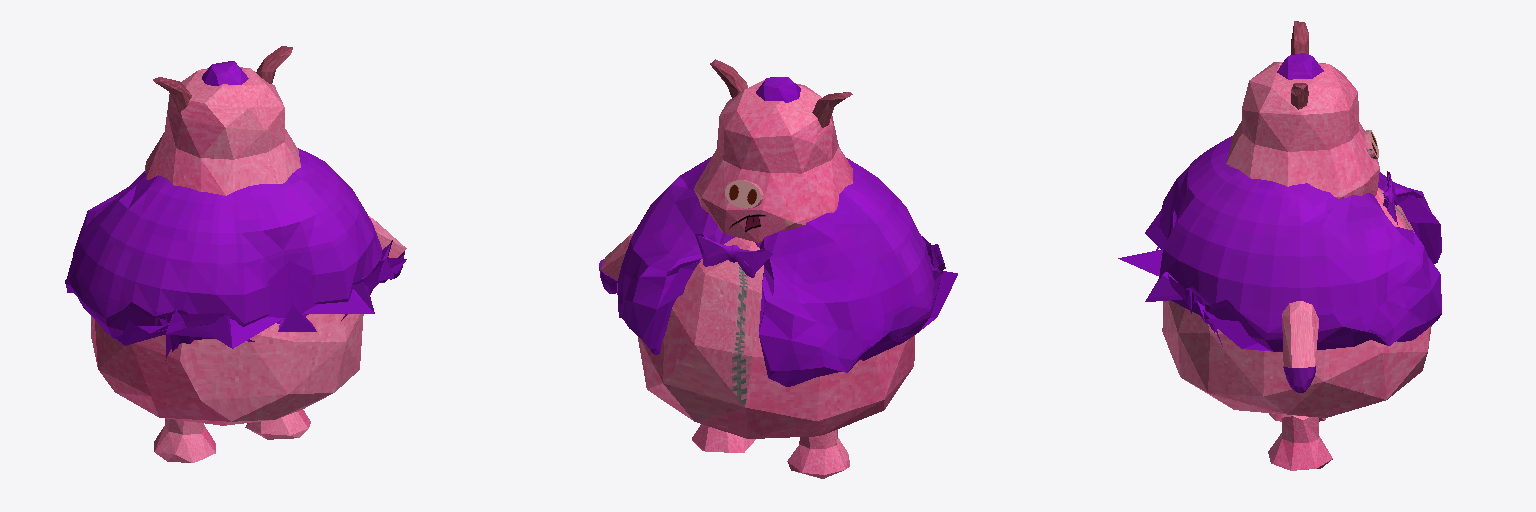
The picture shows the model from 3 angles: view 1: azimuth 30°, elevation 25°; view 2: azimuth 150°, elevation 25°; view 3: azimuth 270°, elevation 25°; orthographic projection.
Parts seen in each view (by area): view 1: Esfera, Cubo, Cubo.001, Cubo.004; view 2: Cubo, Esfera, Esfera.001, Cubo.004, Cubo.001, Cilindro; view 3: Esfera, Cubo, Cubo.004, Cubo.001.
Part boxes in pixels (x1,y1,x2,y2): Esfera: (65,148,406,360); Cubo: (91,46,363,462); Cubo.001: (202,61,248,85); Cubo.004: (369,216,406,279); Cubo: (638,59,914,478); Esfera: (617,157,957,386); Esfera.001: (695,234,772,277); Cubo.004: (599,231,634,293); Cubo.001: (756,77,800,102); Cilindro: (725,180,763,208); Esfera: (1118,136,1441,351); Cubo: (1162,21,1431,470); Cubo.004: (1282,301,1318,392); Cubo.001: (1277,53,1323,79).
Bounding box in the file's own units: 3.06 × 3.58 × 2.75.
5 materials, 1 textured.